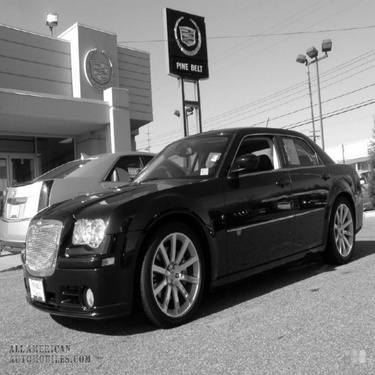car: (15, 116, 369, 336), (9, 142, 187, 272), (337, 164, 372, 213)
